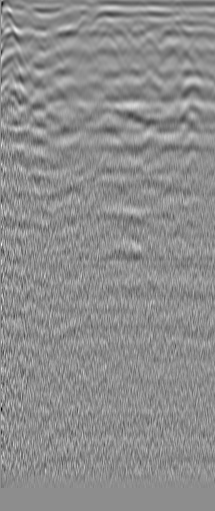오수: (17, 23, 46, 53)
우수: (161, 23, 181, 43)
